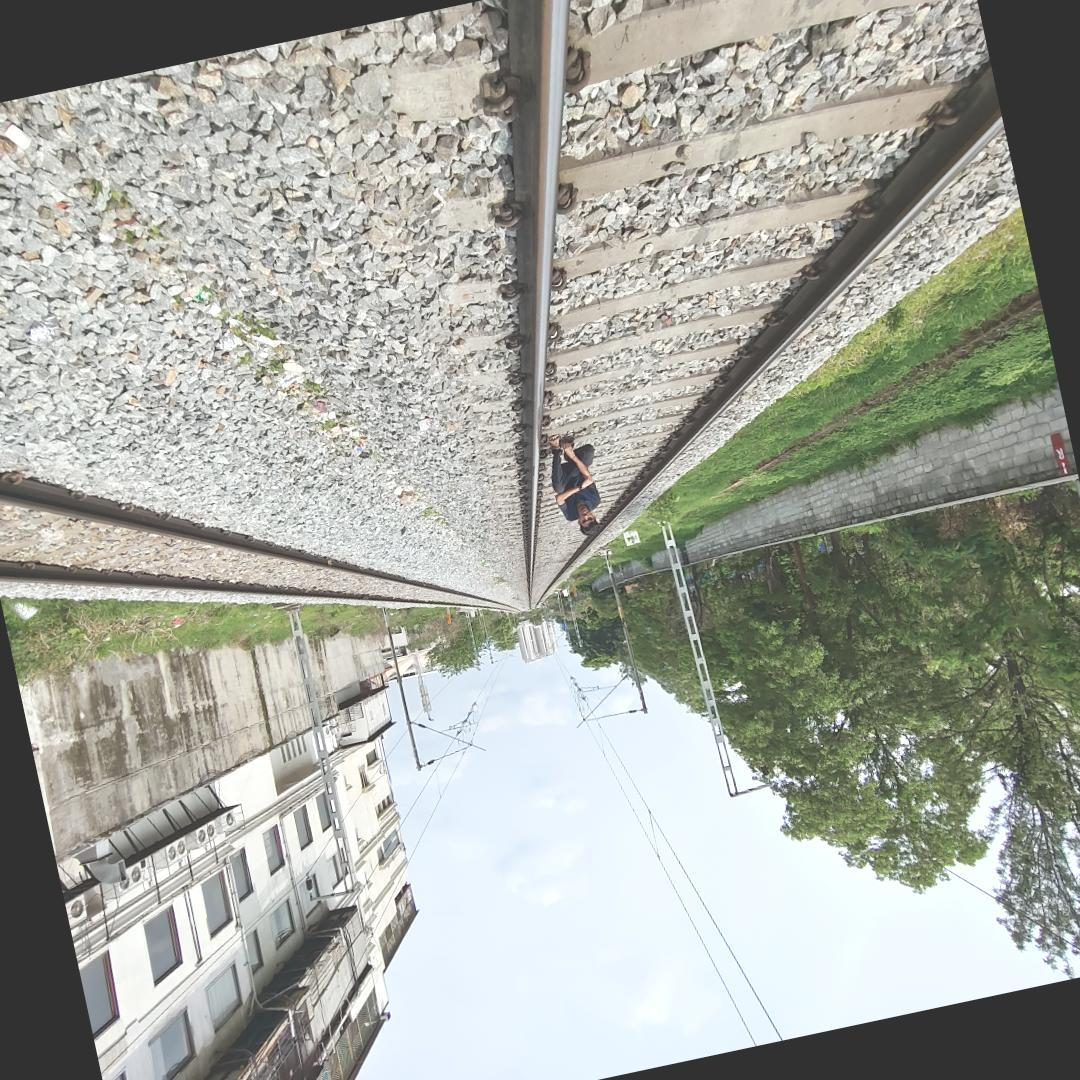sitting: (520, 414, 625, 550)
track: (395, 0, 1018, 604), (0, 421, 477, 611)
